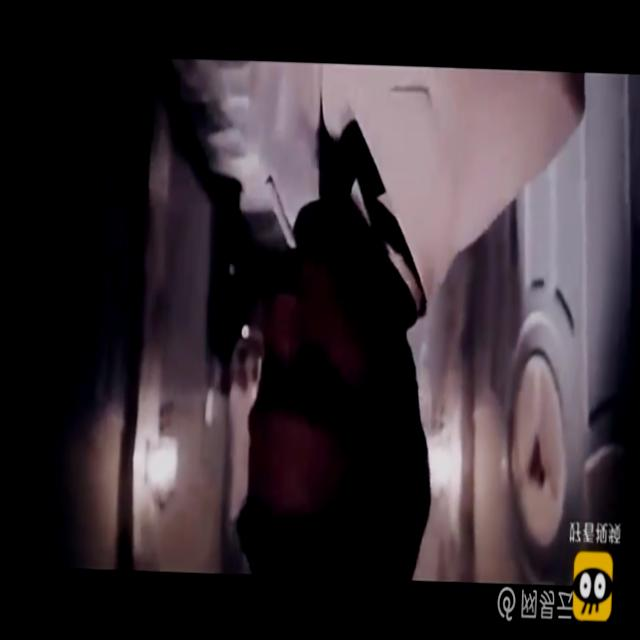cigarette: (262, 174, 306, 253)
